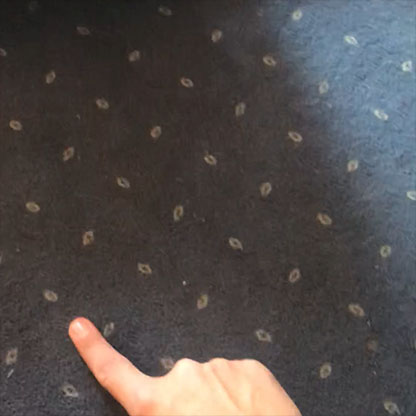fingertip: (64, 315, 100, 349)
